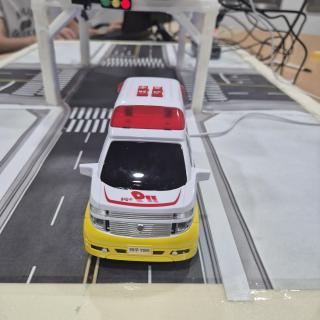Ambulance: (79, 77, 210, 261)
